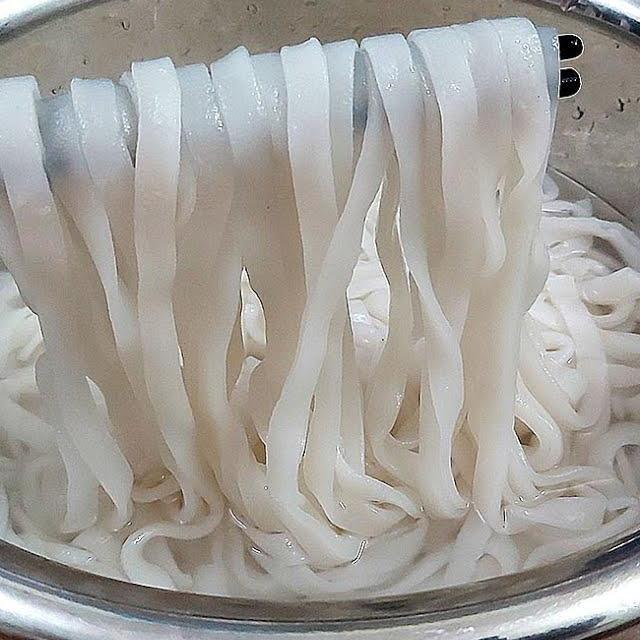banh pho: (0, 5, 640, 614)
